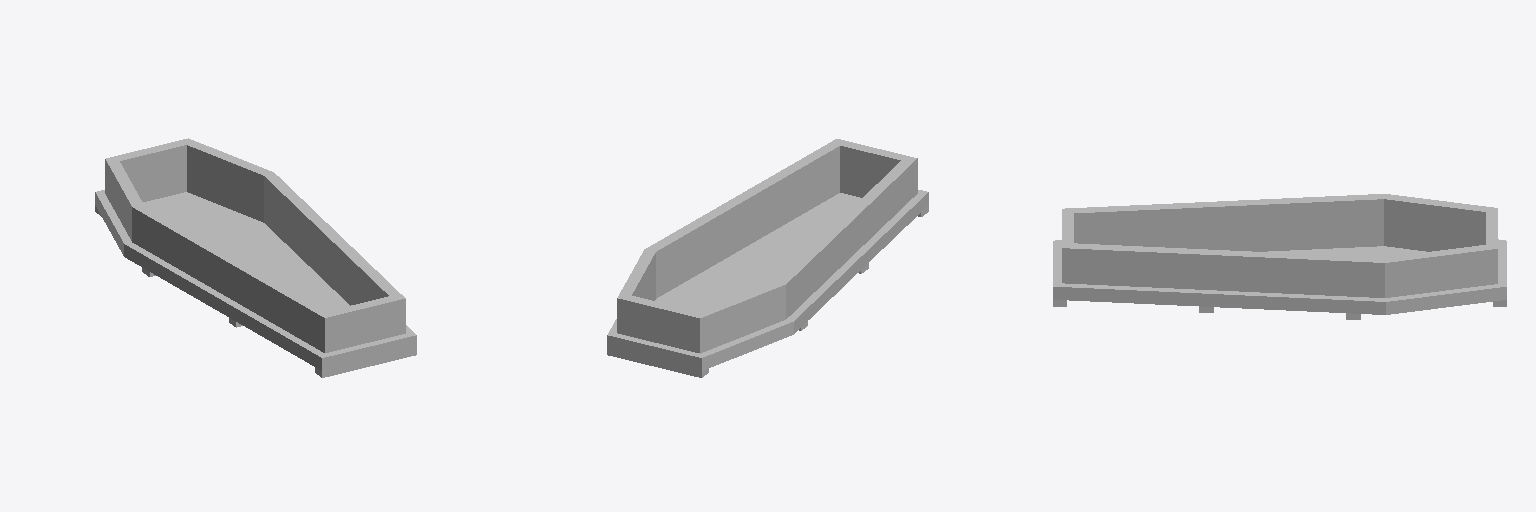
File: Casket_Timber_Open_01 1_5_0.obj
3 views of the same model, side by side, from view 1: azimuth 30°, elevation 25°; view 2: azimuth 150°, elevation 25°; view 3: azimuth 270°, elevation 25° (orthographic).
Parts seen in each view (by area): view 1: Casket_Timber_Open_01 1; view 2: Casket_Timber_Open_01 1; view 3: Casket_Timber_Open_01 1.
Boxes of the visible parts, x1,y1,x2,y2 form: Casket_Timber_Open_01 1: [95, 138, 416, 377]; Casket_Timber_Open_01 1: [607, 139, 928, 377]; Casket_Timber_Open_01 1: [1053, 194, 1506, 319].
Bounding box in the file's own units: 5.25 × 1.76 × 13.12.